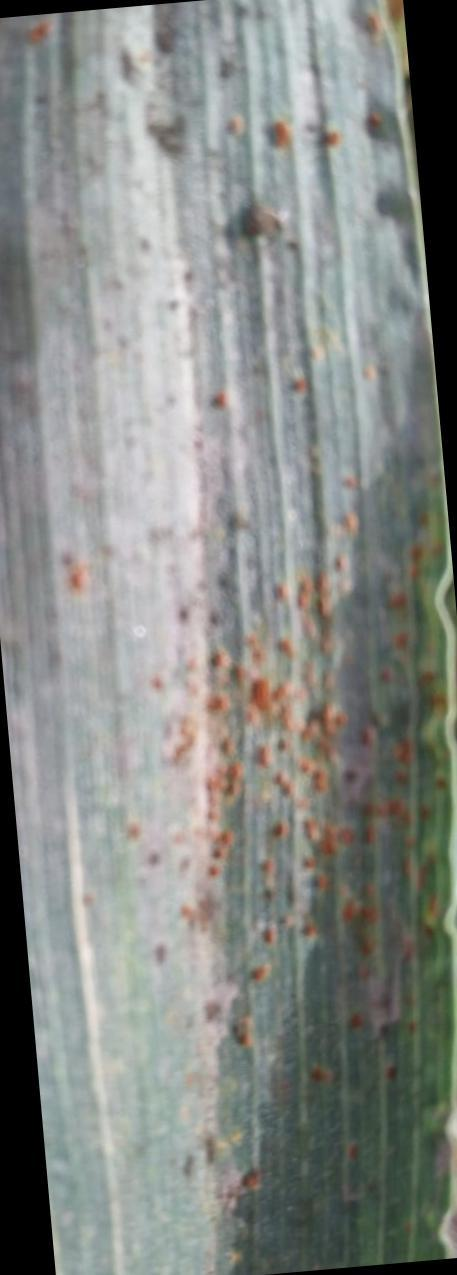Wheat: (86, 498, 435, 1213)
